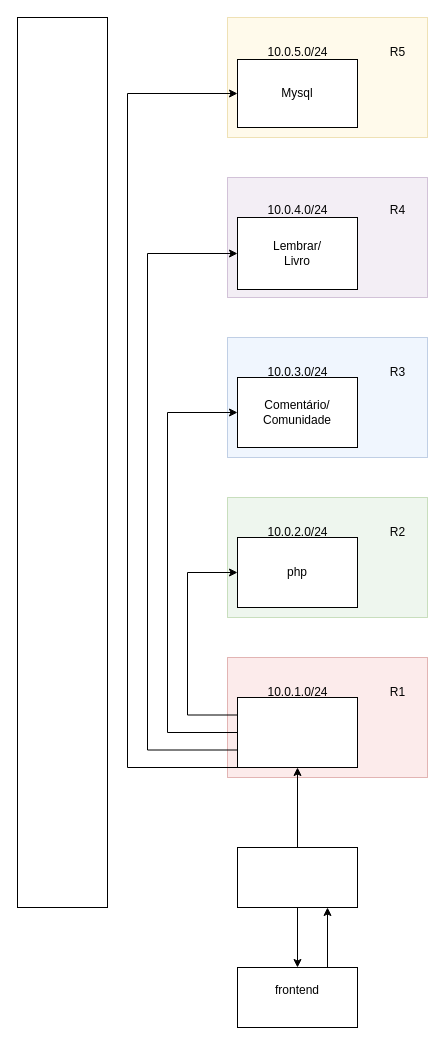
Some shapes in this 445 by 1045 pixel diagram are drawn without their labels. The shapes that lost their labels are listed below. From the top down, each one's centre as x and y in pixels, then its label:
At point (62, 462): "Docker".
At point (297, 732): "Auth".
At point (297, 877): "backend".
